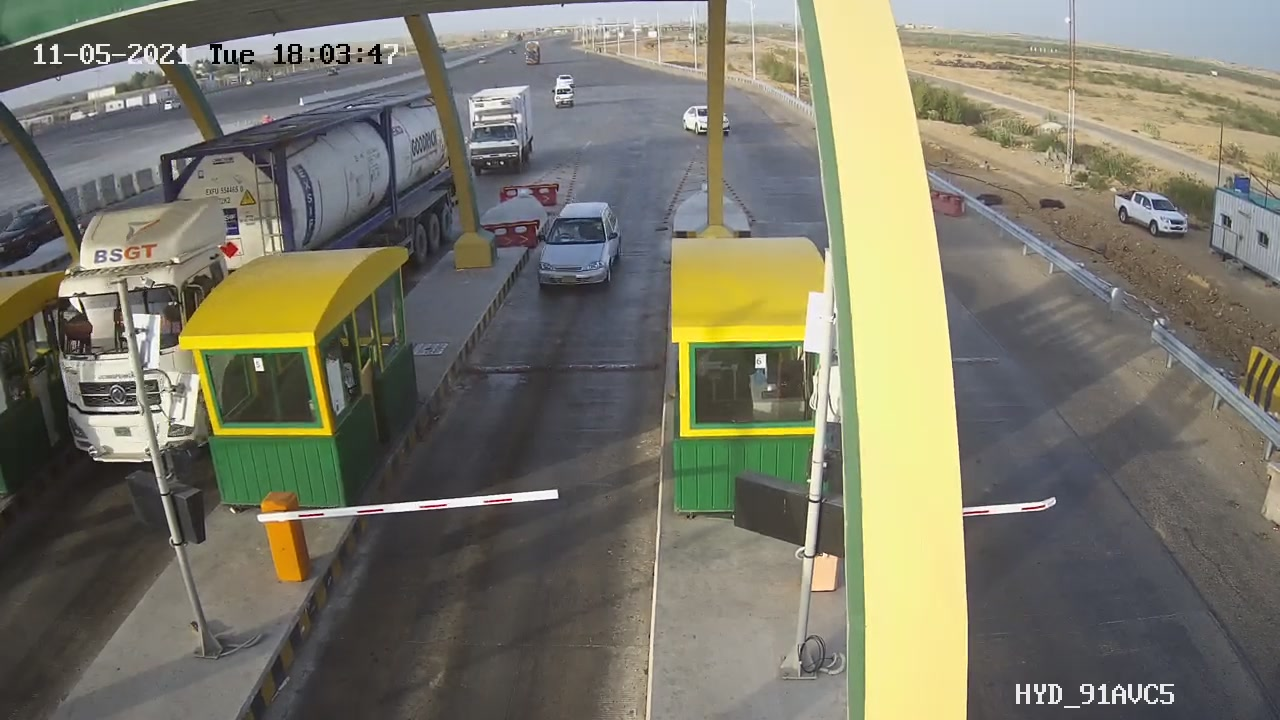F1: (516, 190, 639, 309)
